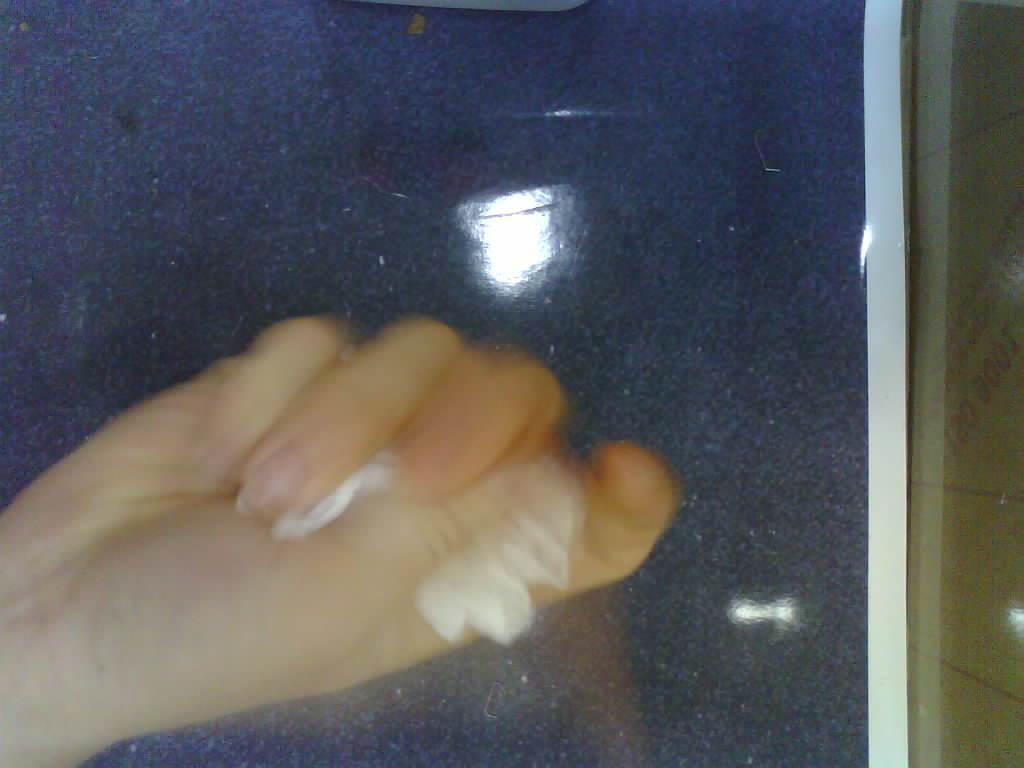paper: (226, 332, 584, 644)
